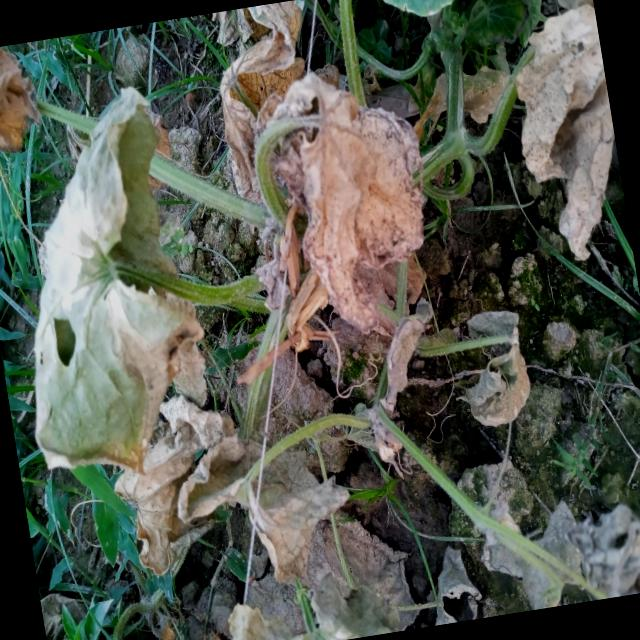cucumber_bacterial: (0, 77, 228, 489), (254, 71, 452, 377), (223, 445, 446, 640), (474, 0, 633, 272), (483, 463, 640, 615), (464, 296, 557, 432)
